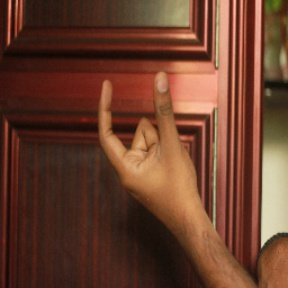U: (95, 64, 194, 195)
